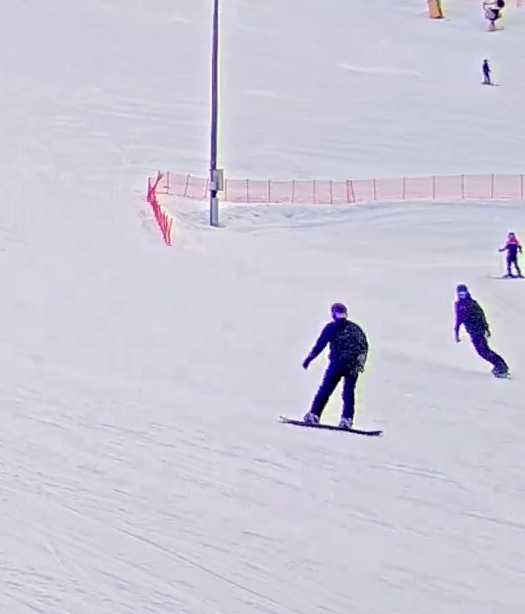snowboarder: (279, 299, 385, 440)
